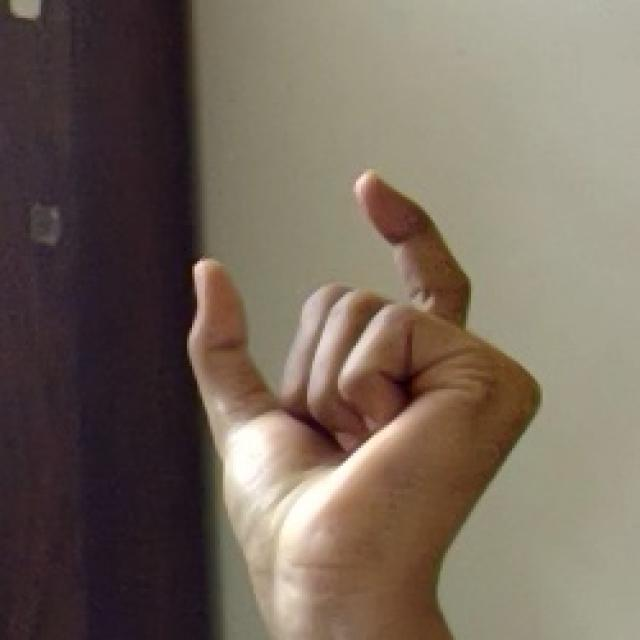Alphabet-U: (166, 146, 553, 638)
